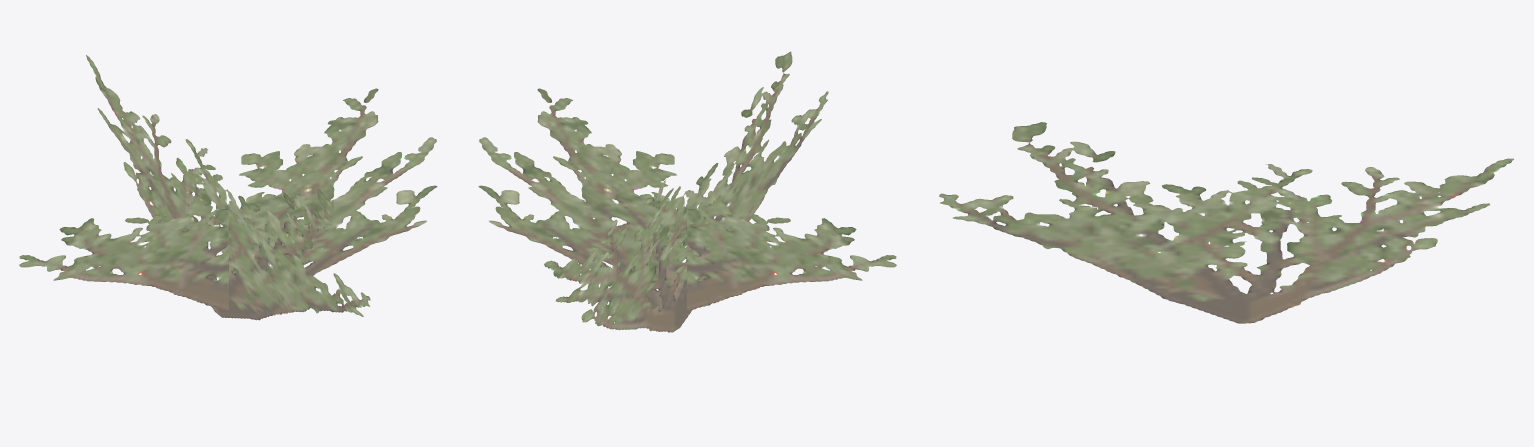
The model's file is valley-cushion-far.glb.
The picture shows the model from 3 angles, left to right: view 1: azimuth 30°, elevation 25°; view 2: azimuth 150°, elevation 25°; view 3: azimuth 270°, elevation 25°; orthographic projection.
Size of the model in its own units: 0.5218 by 0.2381 by 0.6143.
1 material, 1 textured.
